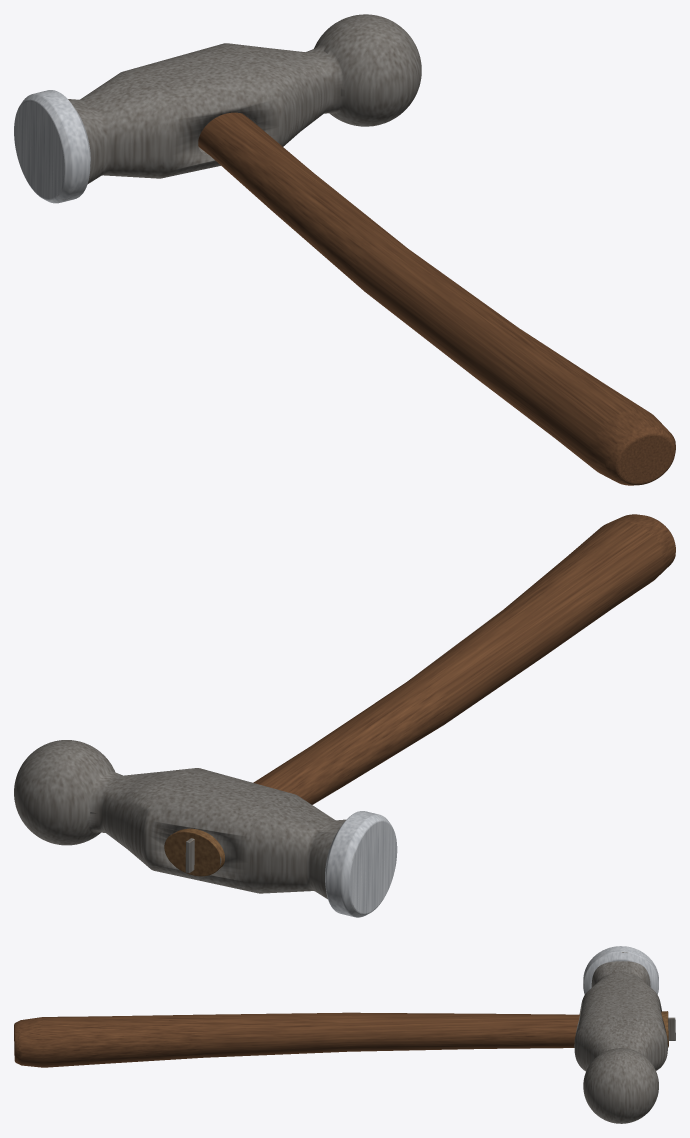
The model's file is hammer4.obj.
The picture shows the model from 3 angles, top to bottom: view 1: azimuth 30°, elevation 25°; view 2: azimuth 150°, elevation 25°; view 3: azimuth 270°, elevation 25°; orthographic projection. The views are drawn at different scales.
Parts seen in each view (by area): view 1: Shaped_wooden_handle.002, Forged_ball_peen_core, Circular_striking_face; view 2: Forged_ball_peen_core, Shaped_wooden_handle.002, Circular_striking_face, Exposed_end_grain_in_eye.002; view 3: Shaped_wooden_handle.002, Forged_ball_peen_core, Circular_striking_face.
Boxes of the visible parts, x1,y1,x2,y2 form: Shaped_wooden_handle.002: [198, 112, 675, 485]; Forged_ball_peen_core: [68, 14, 421, 184]; Circular_striking_face: [14, 90, 90, 203]; Forged_ball_peen_core: [14, 740, 345, 899]; Shaped_wooden_handle.002: [253, 514, 675, 804]; Circular_striking_face: [325, 811, 397, 917]; Exposed_end_grain_in_eye.002: [164, 828, 224, 876]; Shaped_wooden_handle.002: [14, 1012, 579, 1067]; Forged_ball_peen_core: [574, 961, 667, 1123]; Circular_striking_face: [583, 946, 658, 994].
Size of the model in its own units: 0.131 by 0.034 by 0.2967.
4 materials, 4 textured.
